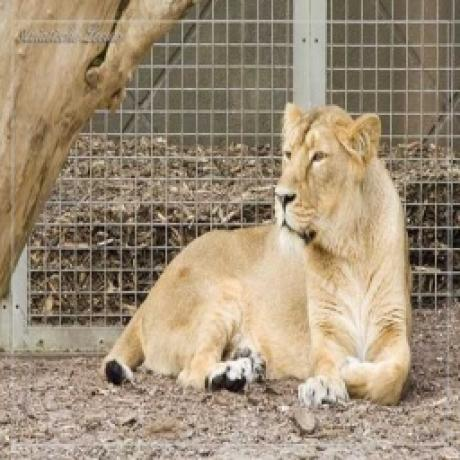Lion: (101, 102, 412, 413)
